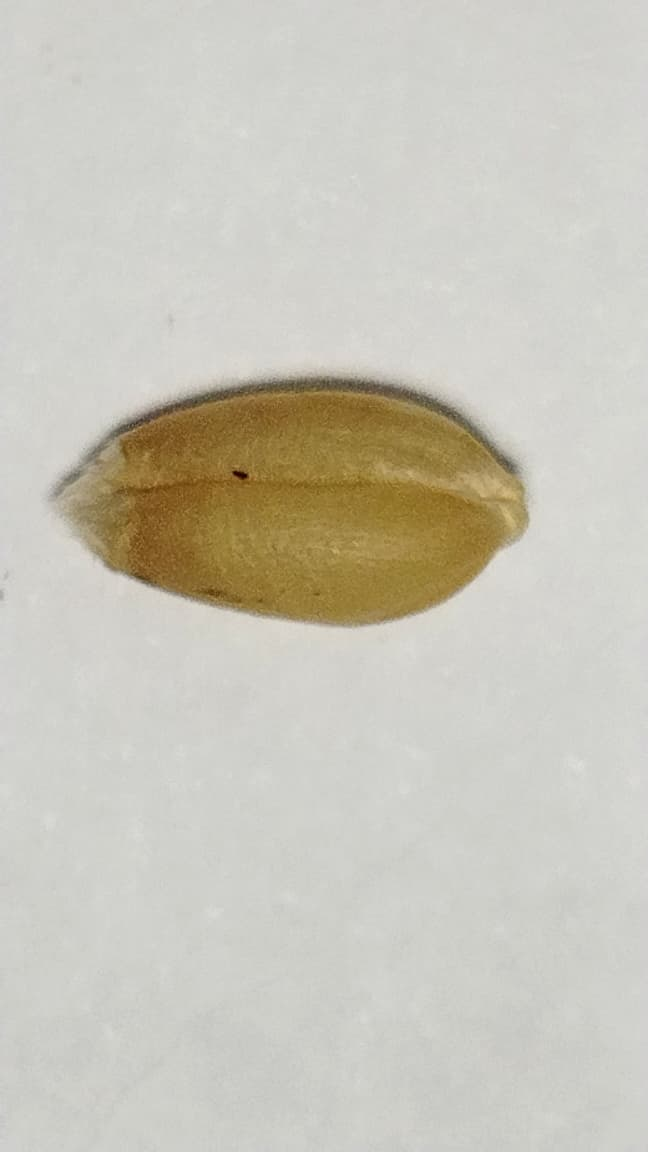healthy: (57, 383, 527, 626)
